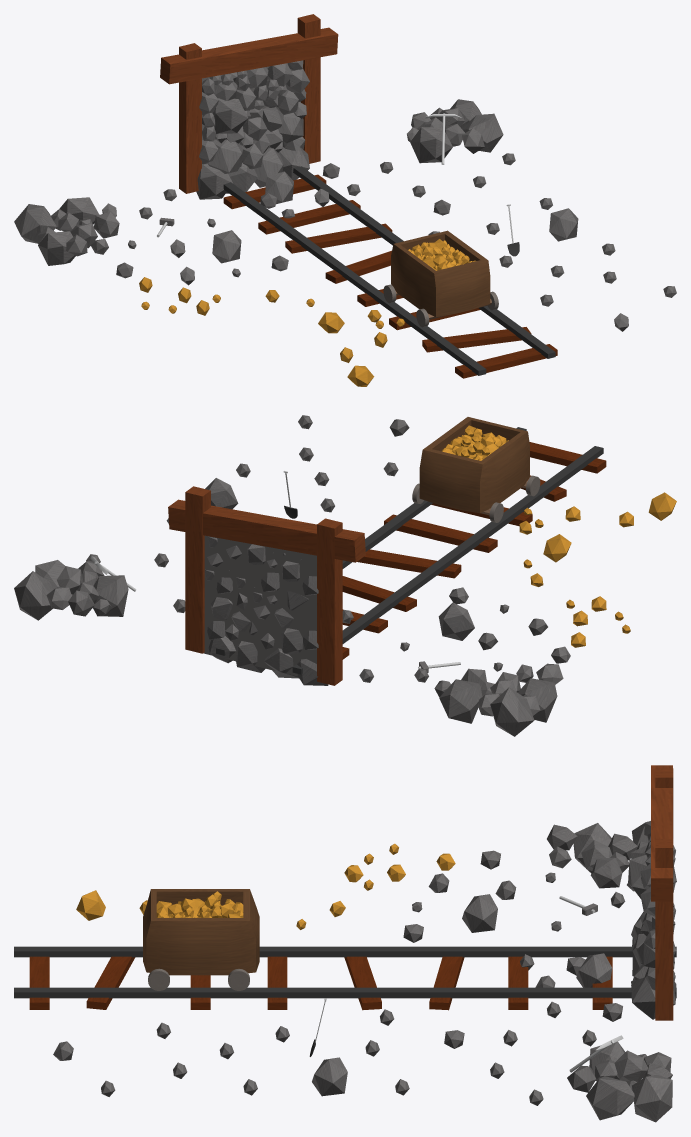
The model's file is miningsite.fbx.
3 renders of one model, top to bottom at view 1: azimuth 30°, elevation 25°; view 2: azimuth 150°, elevation 25°; view 3: azimuth 270°, elevation 25°, orthographic. The views are drawn at different scales.
Parts seen in each view (by area): view 1: Cart1, Wooden_Door5, Steel_Rail1, Wooden_Door6, Steel_Rail2, Wooden_Door4, Rock14, Wood_Rail9, Wood_Rail13, Wood_Rail2, Wood_Rail14, Rock1 (+14 smaller); view 2: RockWall, Cart1, Wooden_Door5, Wooden_Door6, Steel_Rail1, Wooden_Door4, Rock1, Rock2, Wood_Rail11, Rock12, Wood_Rail12, Rock14 (+14 smaller); view 3: Cart1, Steel_Rail2, Steel_Rail1, Wooden_Door4, Wooden_Door5, Rock12, Rock13, Wood_Rail9, Rock78, Rock85, Wood_Rail12, Wood_Rail13 (+14 smaller).
Part boxes in pixels (left/top/right/bottom): Cart1: left=391, top=230, right=490, bottom=316; Wooden_Door5: left=160, top=27, right=338, bottom=84; Steel_Rail1: left=223, top=182, right=486, bottom=375; Wooden_Door6: left=179, top=43, right=201, bottom=193; Steel_Rail2: left=293, top=166, right=555, bottom=358; Wooden_Door4: left=297, top=14, right=320, bottom=163; Rock14: left=410, top=127, right=452, bottom=163; Wood_Rail9: left=422, top=327, right=531, bottom=352; Wood_Rail13: left=285, top=223, right=392, bottom=253; Wood_Rail2: left=455, top=344, right=557, bottom=378; Wood_Rail14: left=258, top=200, right=360, bottom=234; Rock1: left=14, top=204, right=56, bottom=243; RockWall: left=203, top=535, right=316, bottom=676; Cart1: left=419, top=417, right=529, bottom=513; Wooden_Door5: left=168, top=499, right=365, bottom=562; Wooden_Door6: left=317, top=518, right=342, bottom=685; Steel_Rail1: left=292, top=446, right=603, bottom=674; Wooden_Door4: left=185, top=486, right=210, bottom=653; Rock1: left=490, top=687, right=534, bottom=736; Rock2: left=439, top=679, right=482, bottom=723; Wood_Rail11: left=384, top=514, right=497, bottom=552; Rock12: left=14, top=571, right=52, bottom=620; Wood_Rail12: left=357, top=549, right=461, bottom=578; Rock14: left=93, top=575, right=128, bottom=616; Cart1: left=143, top=889, right=259, bottom=975; Steel_Rail2: left=14, top=987, right=676, bottom=998; Steel_Rail1: left=14, top=946, right=676, bottom=957; Wooden_Door4: left=655, top=838, right=673, bottom=1020; Wooden_Door5: left=651, top=765, right=672, bottom=901; Rock12: left=632, top=1074, right=672, bottom=1122; Rock13: left=586, top=1076, right=634, bottom=1120; Wood_Rail9: left=86, top=956, right=135, bottom=1009; Rock78: left=312, top=1057, right=347, bottom=1096; Rock85: left=462, top=894, right=497, bottom=932; Wood_Rail12: left=344, top=956, right=381, bottom=1010; Wood_Rail13: left=429, top=956, right=464, bottom=1010.
Bounding box in the file's own units: 446 × 145 × 455.
